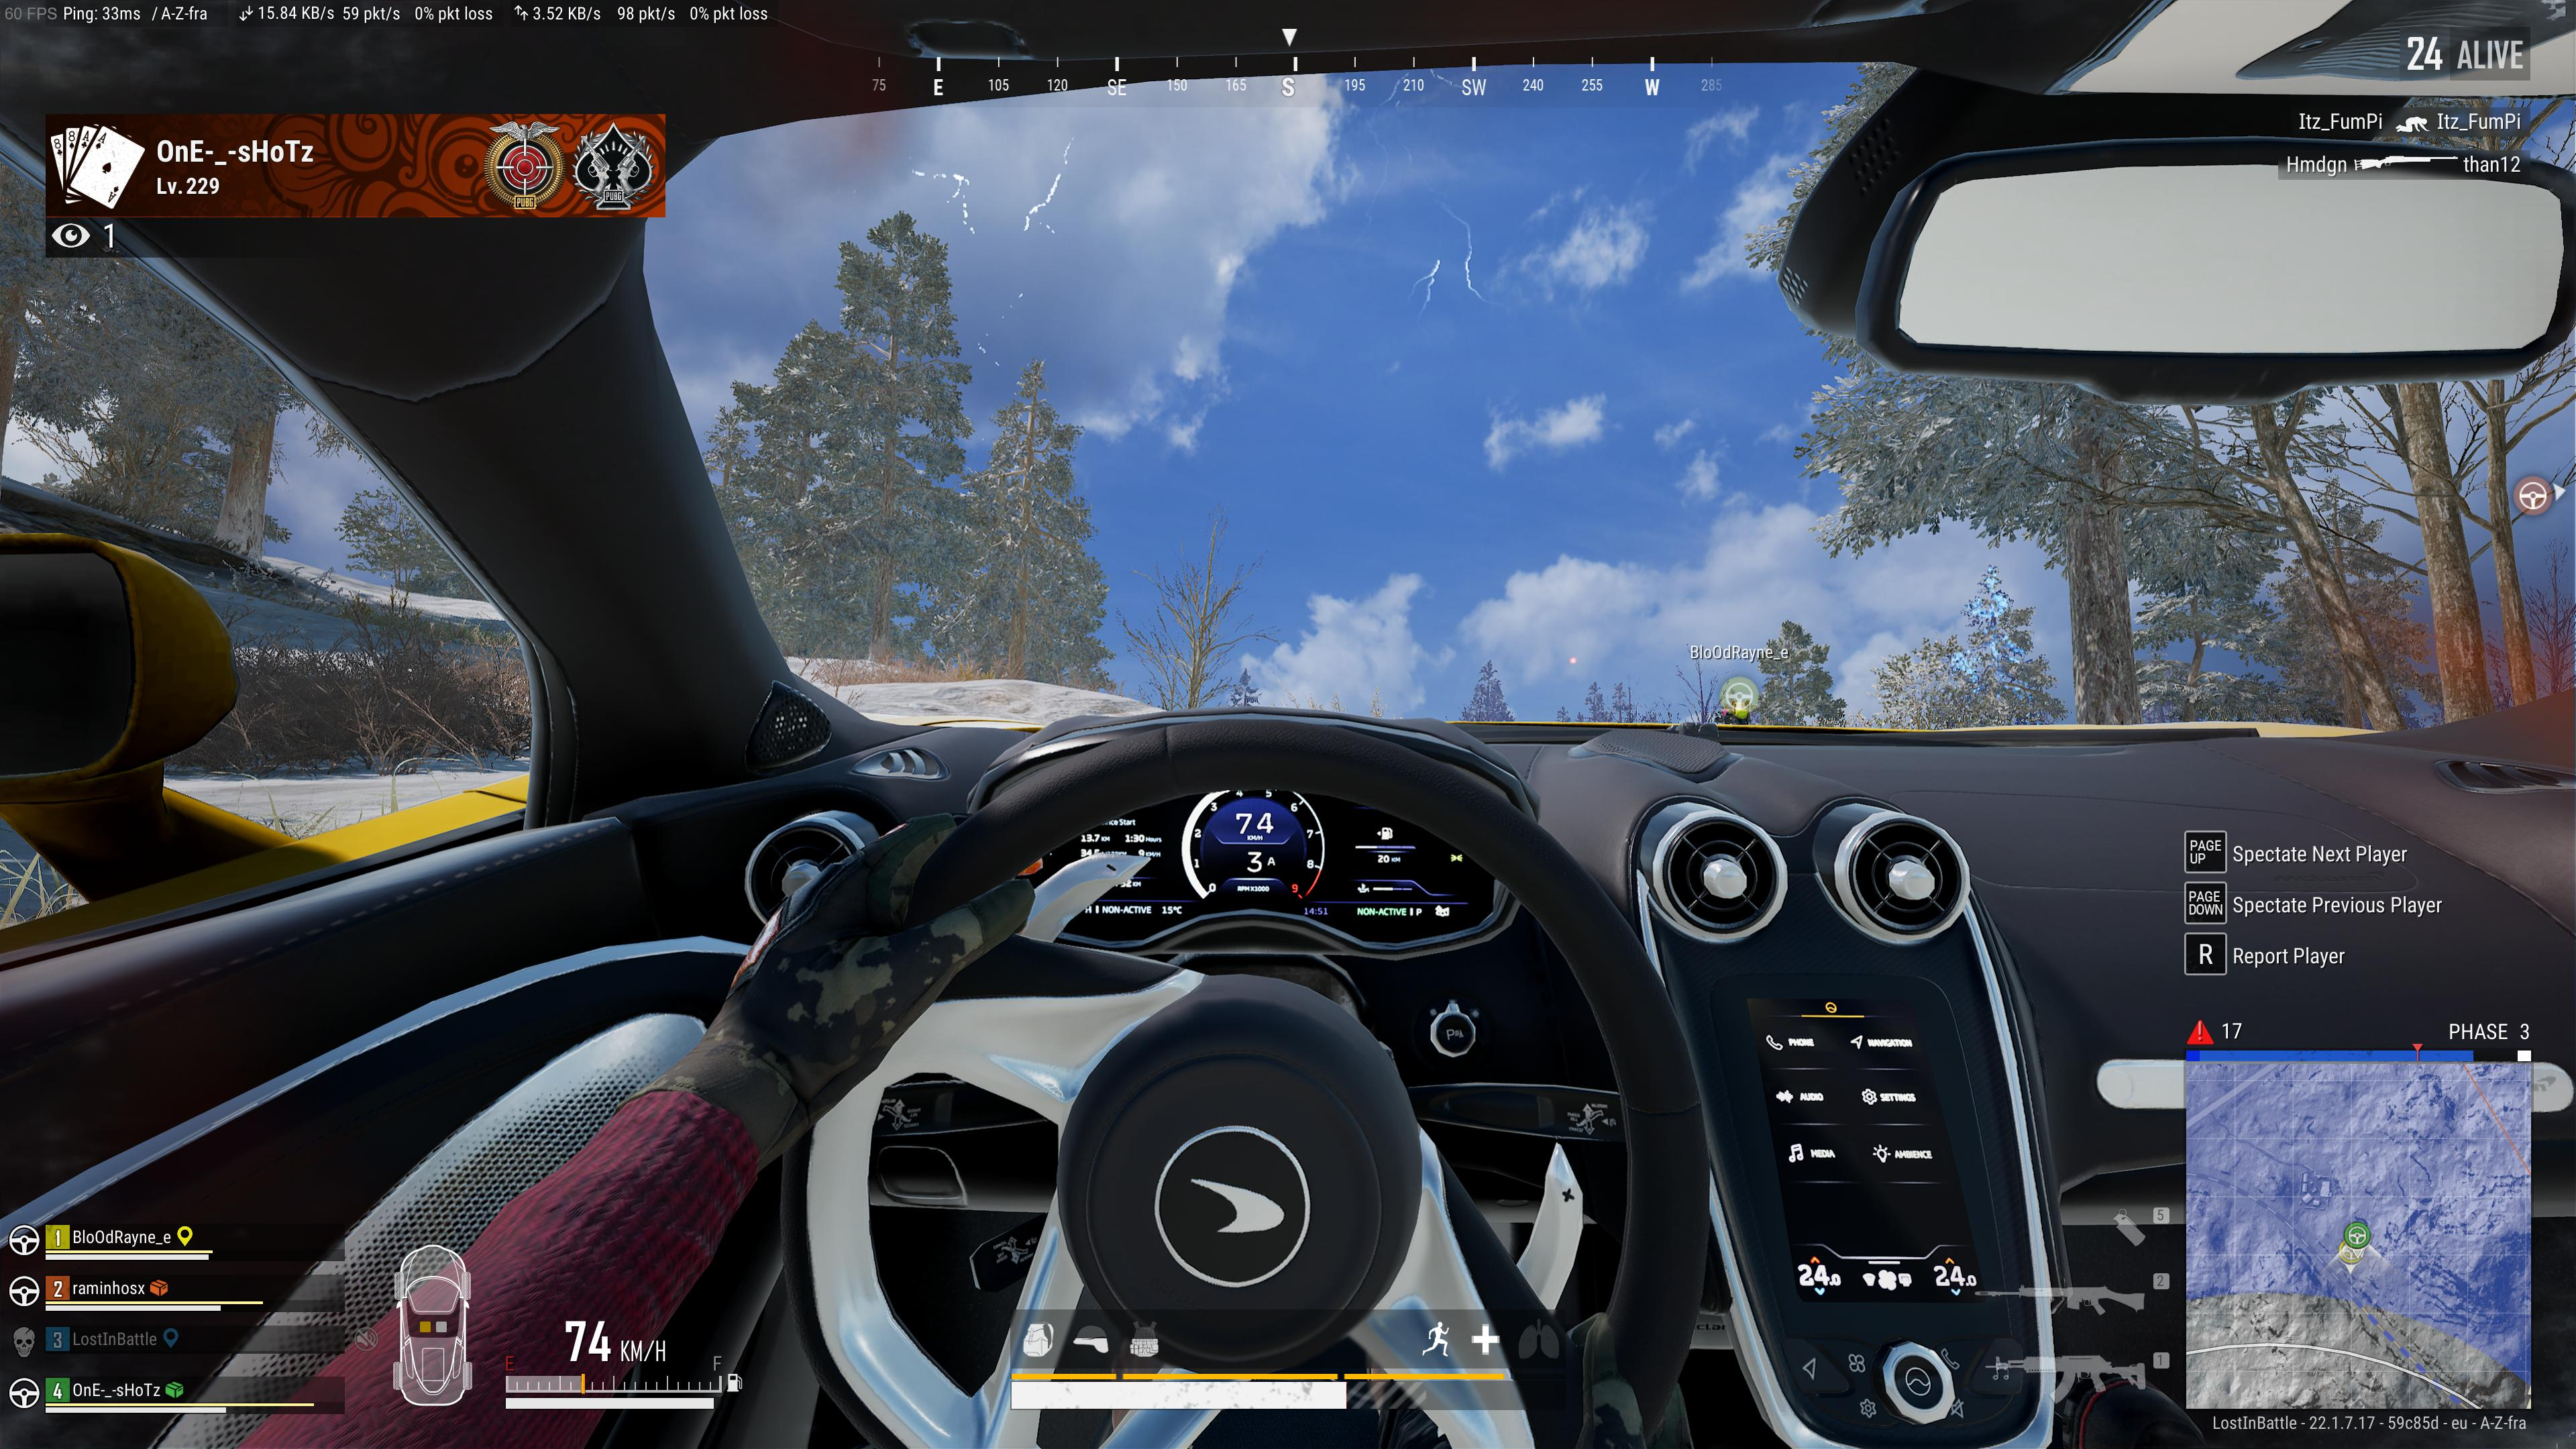friendly: (1714, 690, 1755, 722)
